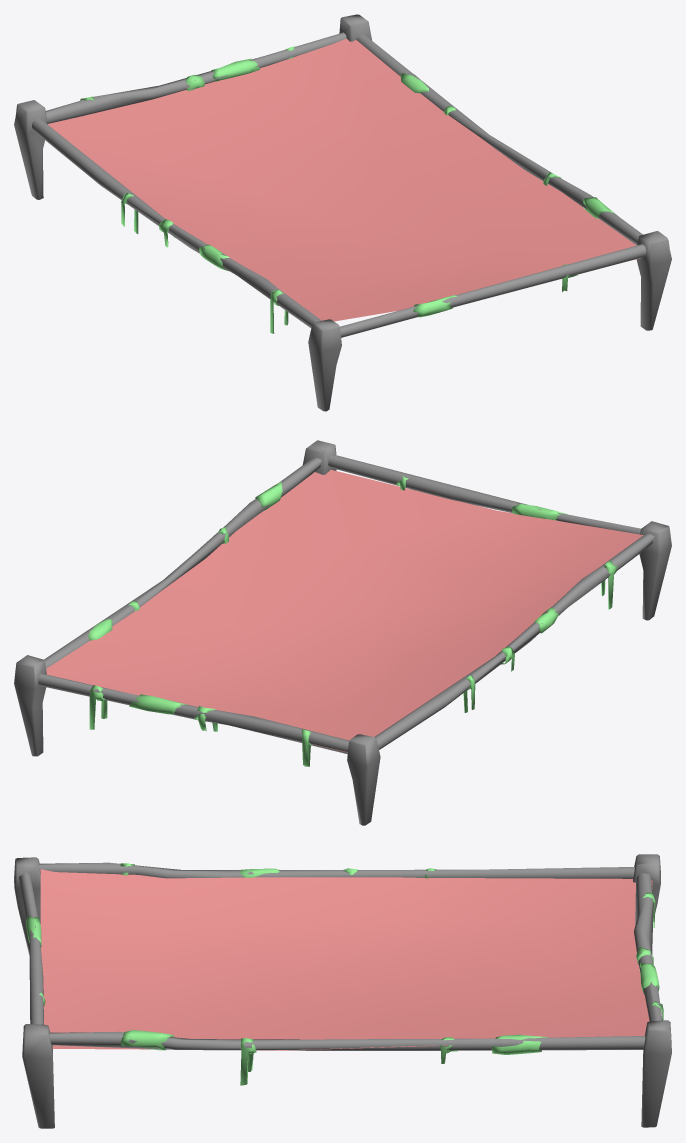
File: SM_prop_bed.gltf
3 views of the same model, one above another, from view 1: azimuth 30°, elevation 25°; view 2: azimuth 150°, elevation 25°; view 3: azimuth 270°, elevation 25° (orthographic). The views are drawn at different scales.
Parts seen in each view (by area): view 1: SM_prop_bed; view 2: SM_prop_bed; view 3: SM_prop_bed.
Part boxes in pixels (x1=…): SM_prop_bed: x1=14, y1=14, x2=671, y2=411; SM_prop_bed: x1=14, y1=440, x2=671, y2=825; SM_prop_bed: x1=14, y1=854, x2=671, y2=1128.
Bounding box in the file's own units: 2.14 × 0.5592 × 3.25.
